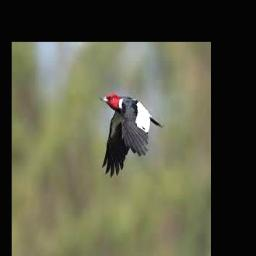Woodpecker: (100, 93, 164, 177)
